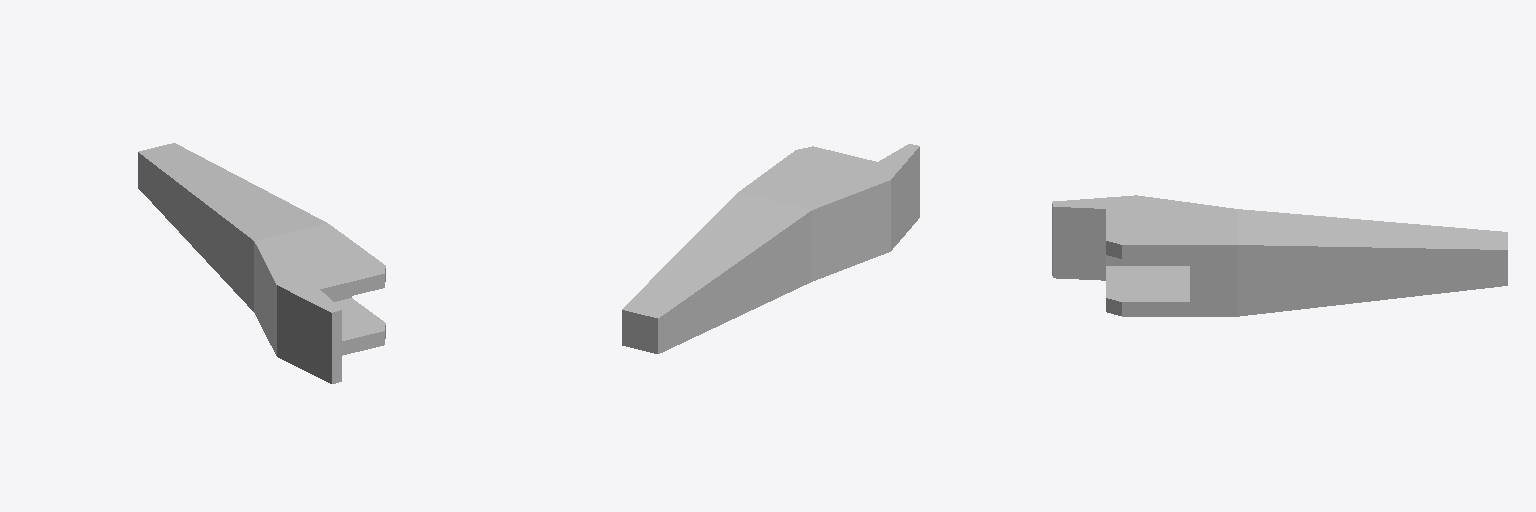
Rendered from lower_arm.obj.
The picture shows the model from 3 angles: view 1: azimuth 30°, elevation 25°; view 2: azimuth 150°, elevation 25°; view 3: azimuth 270°, elevation 25°; orthographic projection.
Parts seen in each view (by area): view 1: cube2; view 2: cube2; view 3: cube2.
Boxes of the visible parts, x1,y1,x2,y2 form: cube2: [138, 143, 385, 383]; cube2: [622, 144, 919, 353]; cube2: [1052, 195, 1507, 316].
Bounding box in the file's own units: 0.1142 × 0.0768 × 0.4428.